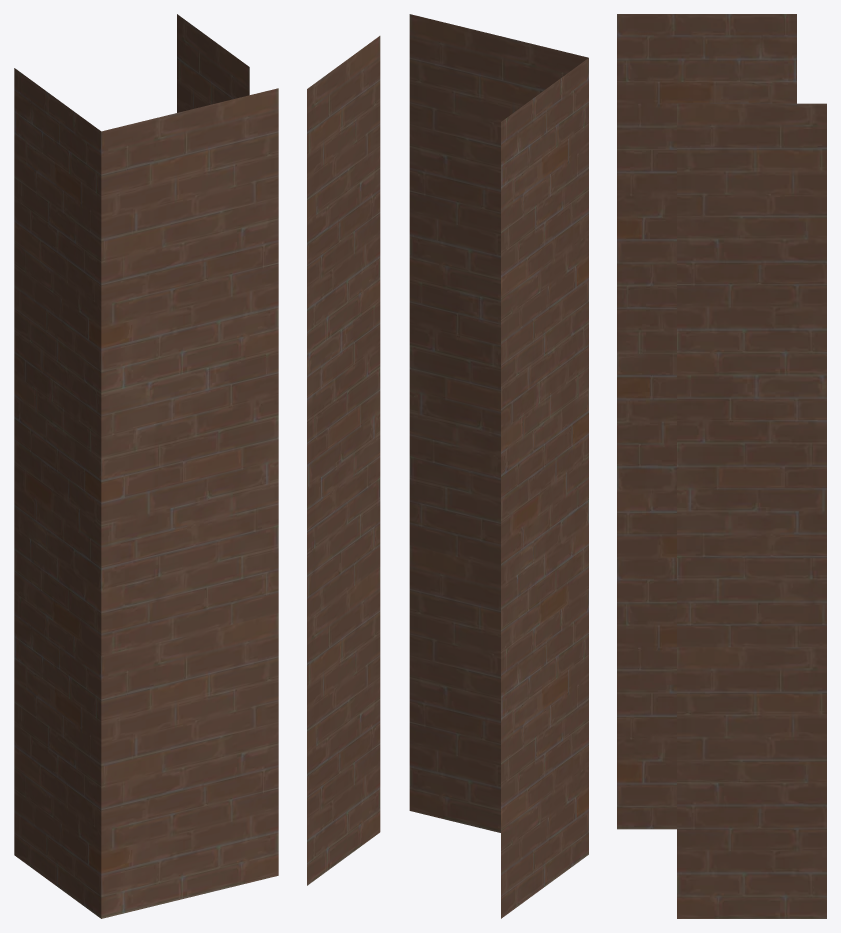
File: Brick_90Angle_R.glb
3 renders of one model, left to right at view 1: azimuth 30°, elevation 25°; view 2: azimuth 150°, elevation 25°; view 3: azimuth 270°, elevation 25°, orthographic. The views are drawn at different scales.
Parts seen in each view (by area): view 1: Brick_90Angle_R; view 2: Brick_90Angle_R; view 3: Brick_90Angle_R.
Part boxes in pixels (x1=…): Brick_90Angle_R: x1=14, y1=14, x2=278, y2=918; Brick_90Angle_R: x1=307, y1=14, x2=588, y2=918; Brick_90Angle_R: x1=617, y1=14, x2=826, y2=918.
Size of the model in its own units: 0.7063 by 3 by 0.7001.
Materials: 1 (1 with a texture image).
